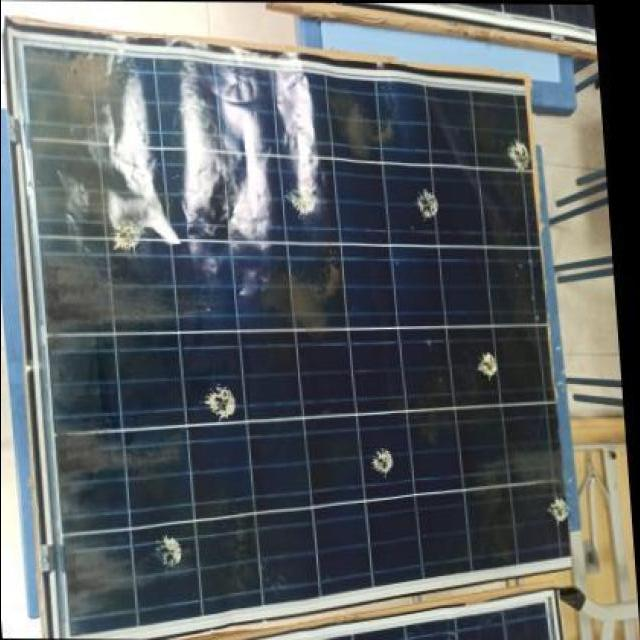soiled: (38, 79, 568, 634)
